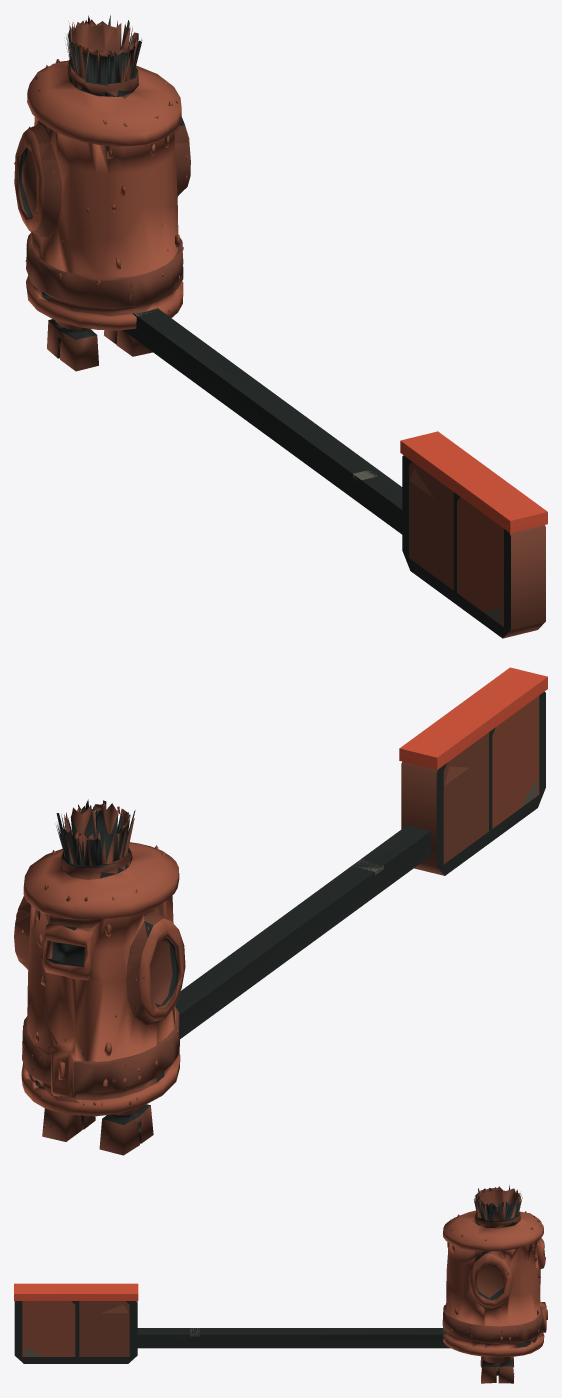
Rendered from enemy_swatter_tripo.glb.
The picture shows the model from 3 angles, top to bottom: view 1: azimuth 30°, elevation 25°; view 2: azimuth 150°, elevation 25°; view 3: azimuth 270°, elevation 25°; orthographic projection. The views are drawn at different scales.
Parts seen in each view (by area): view 1: SwatterBody, SwatterPaddle; view 2: SwatterBody, SwatterPaddle; view 3: SwatterPaddle, SwatterBody.
Boxes of the visible parts, bbox=[...] form: SwatterBody: bbox=[14, 15, 190, 371]; SwatterPaddle: bbox=[123, 308, 547, 638]; SwatterBody: bbox=[14, 799, 185, 1155]; SwatterPaddle: bbox=[175, 667, 547, 1038]; SwatterPaddle: bbox=[14, 1283, 450, 1363]; SwatterBody: bbox=[442, 1185, 547, 1383].
Bounding box in the file's own units: 1.26 × 2.6 × 6.96.
